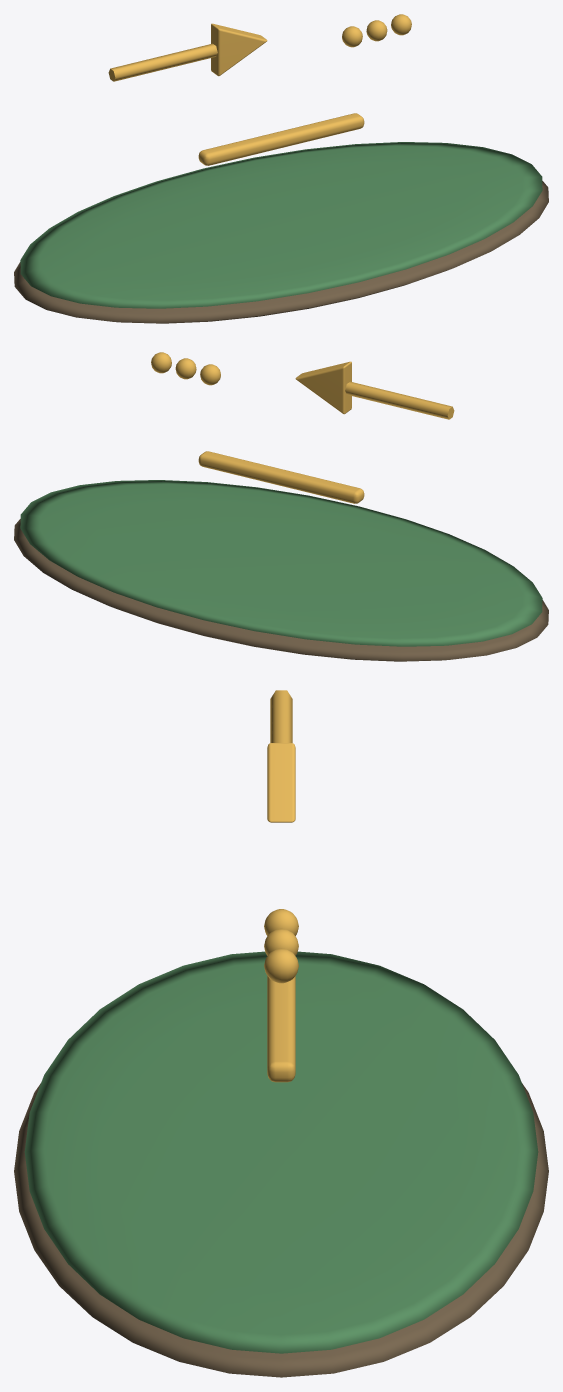
File: complete-second-arrival-few-minimum.glb
The picture shows the model from 3 angles, top to bottom: view 1: azimuth 30°, elevation 25°; view 2: azimuth 150°, elevation 25°; view 3: azimuth 270°, elevation 25°; orthographic projection. The views are drawn at different scales.
Parts seen in each view (by area): view 1: complete-second-arrival-few-minimum_surface_01, complete-second-arrival-few-minimum_surface_00, complete-second-arrival-few-minimum_surface_02; view 2: complete-second-arrival-few-minimum_surface_01, complete-second-arrival-few-minimum_surface_00, complete-second-arrival-few-minimum_surface_02; view 3: complete-second-arrival-few-minimum_surface_01, complete-second-arrival-few-minimum_surface_00, complete-second-arrival-few-minimum_surface_02.
Boxes of the visible parts, x1,y1,x2,y2 form: complete-second-arrival-few-minimum_surface_01: (20,142,542,308); complete-second-arrival-few-minimum_surface_00: (14,181,548,323); complete-second-arrival-few-minimum_surface_02: (108,14,411,165); complete-second-arrival-few-minimum_surface_01: (20,480,542,646); complete-second-arrival-few-minimum_surface_00: (14,519,548,661); complete-second-arrival-few-minimum_surface_02: (151,352,454,503); complete-second-arrival-few-minimum_surface_01: (24,951,538,1353); complete-second-arrival-few-minimum_surface_00: (14,1083,548,1377); complete-second-arrival-few-minimum_surface_02: (264,690,298,1082).
Bounding box in the file's own units: 4.56 × 2.06 × 2.5.
